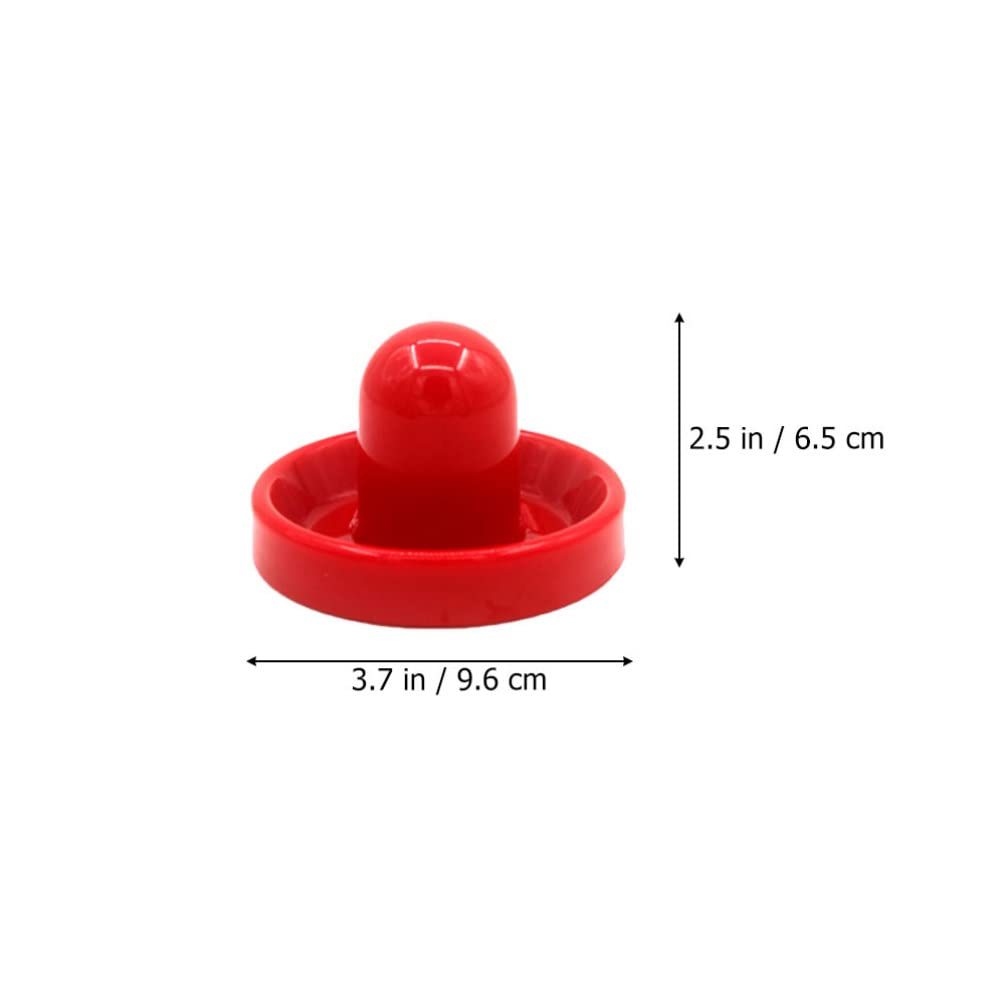/: (436, 667, 447, 696)
2.5in/6.5cm: (690, 426, 884, 454)
3.7: (352, 667, 392, 691)
9.6: (457, 667, 499, 691)
cm: (508, 673, 546, 691)
in: (404, 668, 425, 691)
